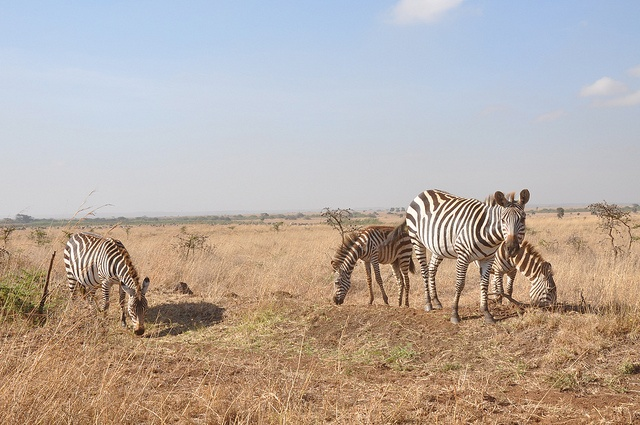zebra: (468, 259, 596, 397), (106, 285, 192, 392), (372, 262, 456, 353), (524, 274, 592, 347)
